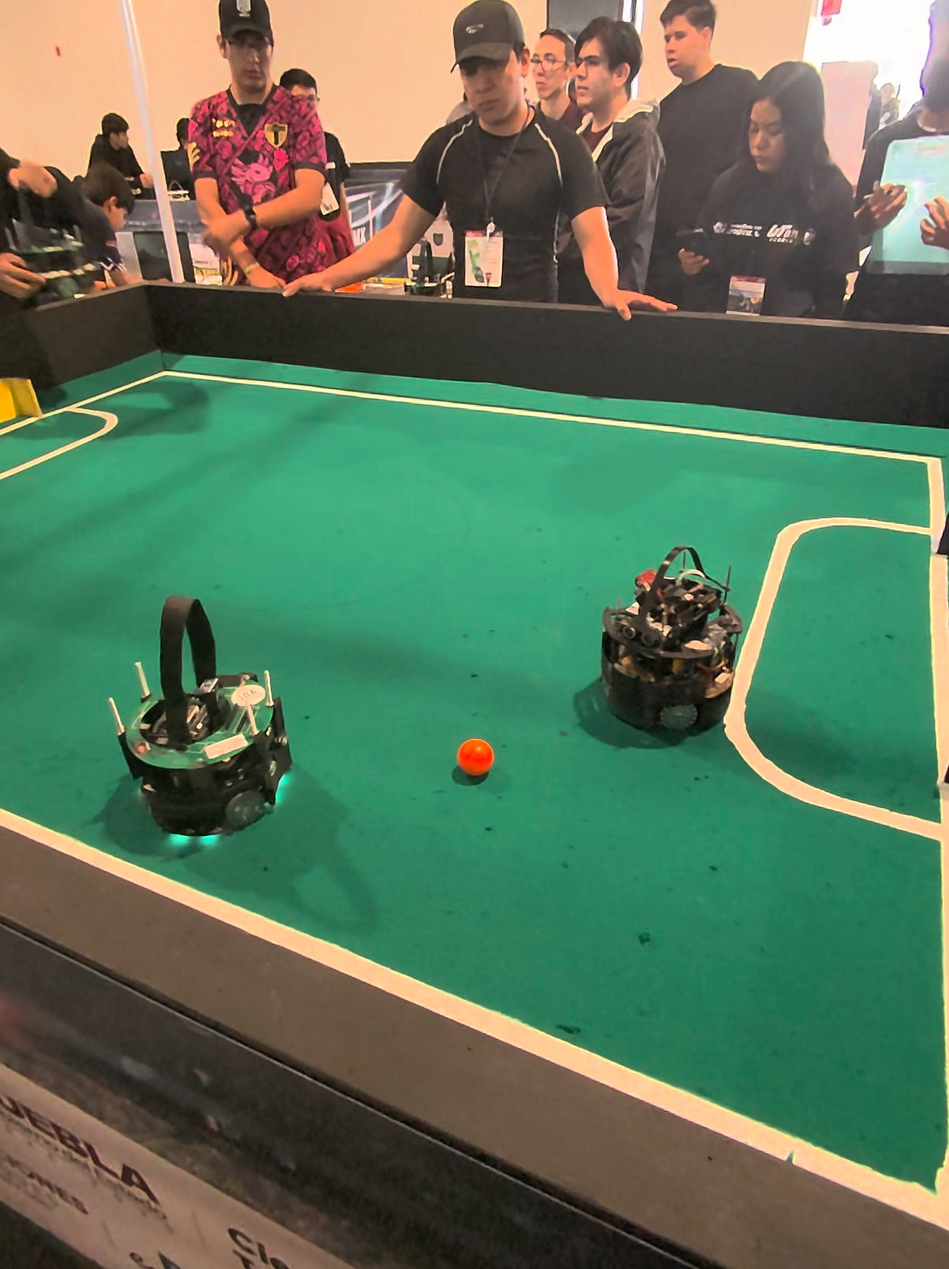Robot: (93, 572, 317, 862), (597, 546, 743, 754)
pelota: (455, 740, 496, 783)
